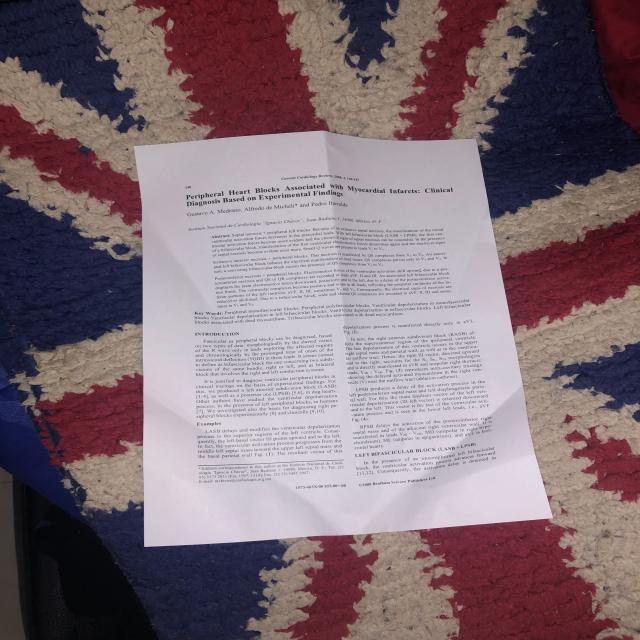kertas: (120, 118, 552, 548)
